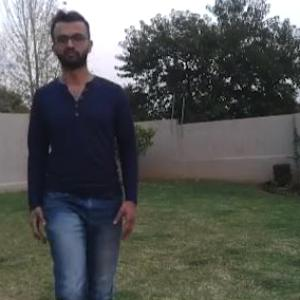follow: (41, 25, 132, 299)
